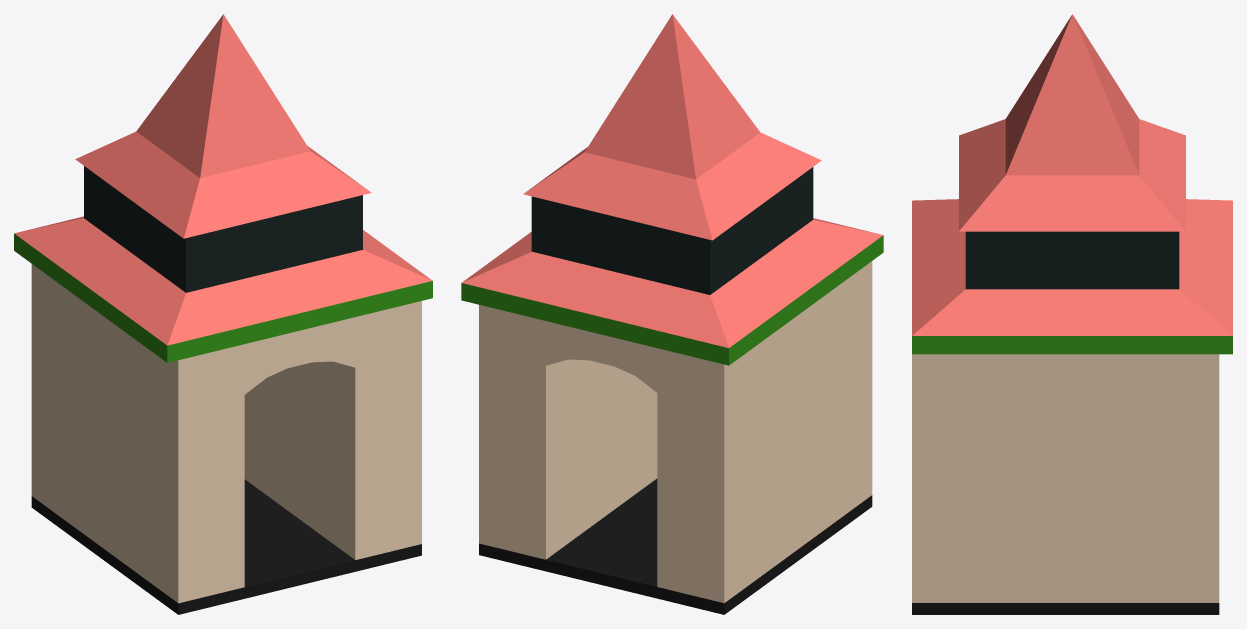
The model's file is entrance.glb.
The picture shows the model from 3 angles, left to right: view 1: azimuth 30°, elevation 25°; view 2: azimuth 150°, elevation 25°; view 3: azimuth 270°, elevation 25°; orthographic projection. The views are drawn at different scales.
Parts seen in each view (by area): view 1: right, left, lower, base (×2), marquee, middle, pyramid, cylinder; view 2: right, left, lower, base (×2), marquee, middle, pyramid, cylinder; view 3: left, lower, middle, pyramid, marquee, base (×2).
Part boxes in pixels (<box>): right: <box>31,264,244,603</box>; left: <box>244,301,421,559</box>; lower: <box>14,216,432,345</box>; base (×2): <box>14,233,432,614</box>; marquee: <box>84,166,362,292</box>; middle: <box>75,131,371,238</box>; pyramid: <box>136,14,310,177</box>; cylinder: <box>244,317,355,394</box>; right: <box>657,261,872,603</box>; left: <box>479,305,657,559</box>; lower: <box>462,218,883,347</box>; base (×2): <box>461,235,883,614</box>; marquee: <box>531,167,813,294</box>; middle: <box>523,132,821,240</box>; pyramid: <box>585,14,760,179</box>; cylinder: <box>546,321,657,392</box>; left: <box>912,354,1219,602</box>; lower: <box>912,199,1232,335</box>; middle: <box>959,119,1185,231</box>; pyramid: <box>1005,14,1139,175</box>; marquee: <box>965,231,1179,289</box>; base (×2): <box>912,336,1232,614</box>.
Bounding box in the file's own units: 3 × 5.56 × 3.
Materials: 1 (1 with a texture image).
